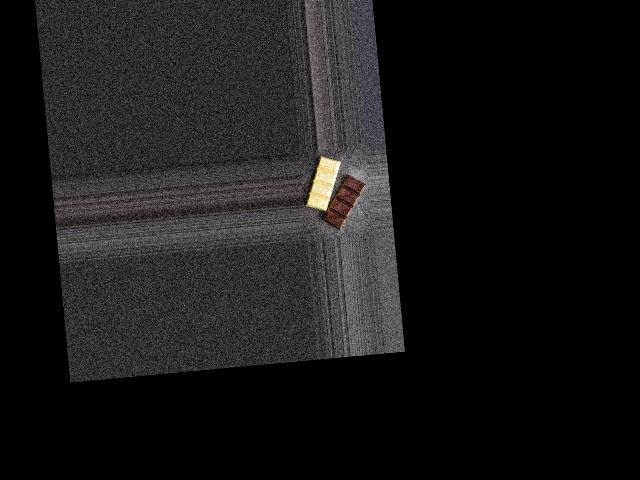chocolate: (301, 149, 368, 232)
